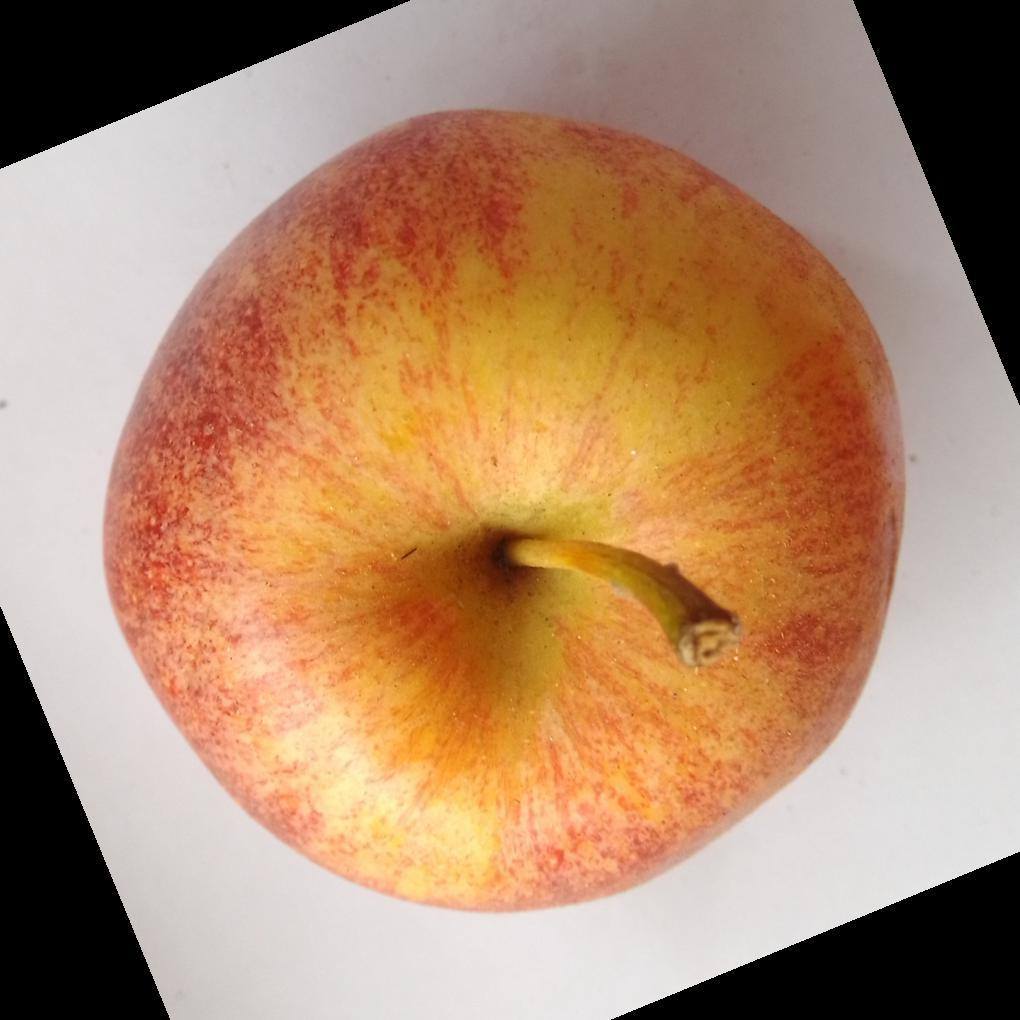FreshGuava: (99, 108, 907, 918)
